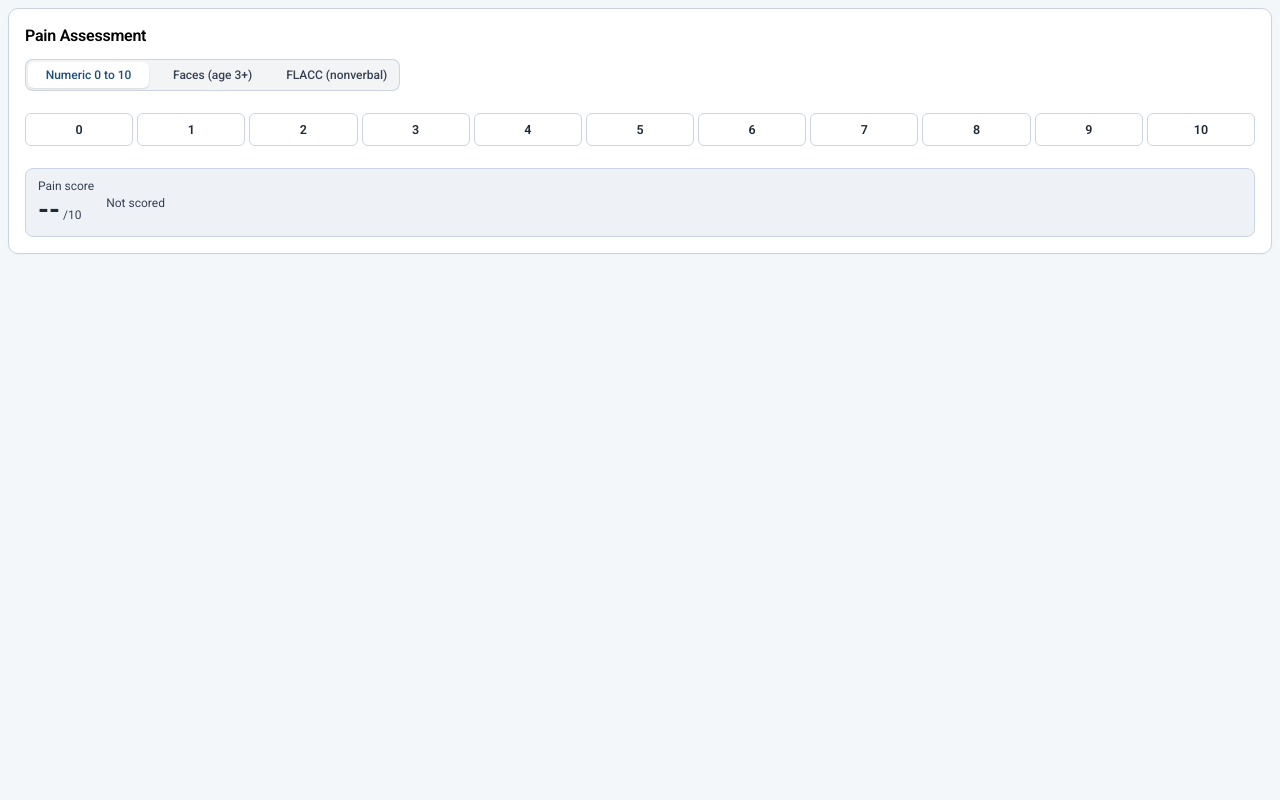
Test case: PainScale › switches scales and hides the switch with one mode
The width and height of the screenshot is (1280, 800).
Click the radio button labelled "FLACC (nonverbal)".
click(337, 75)  # box [276,62,397,88]
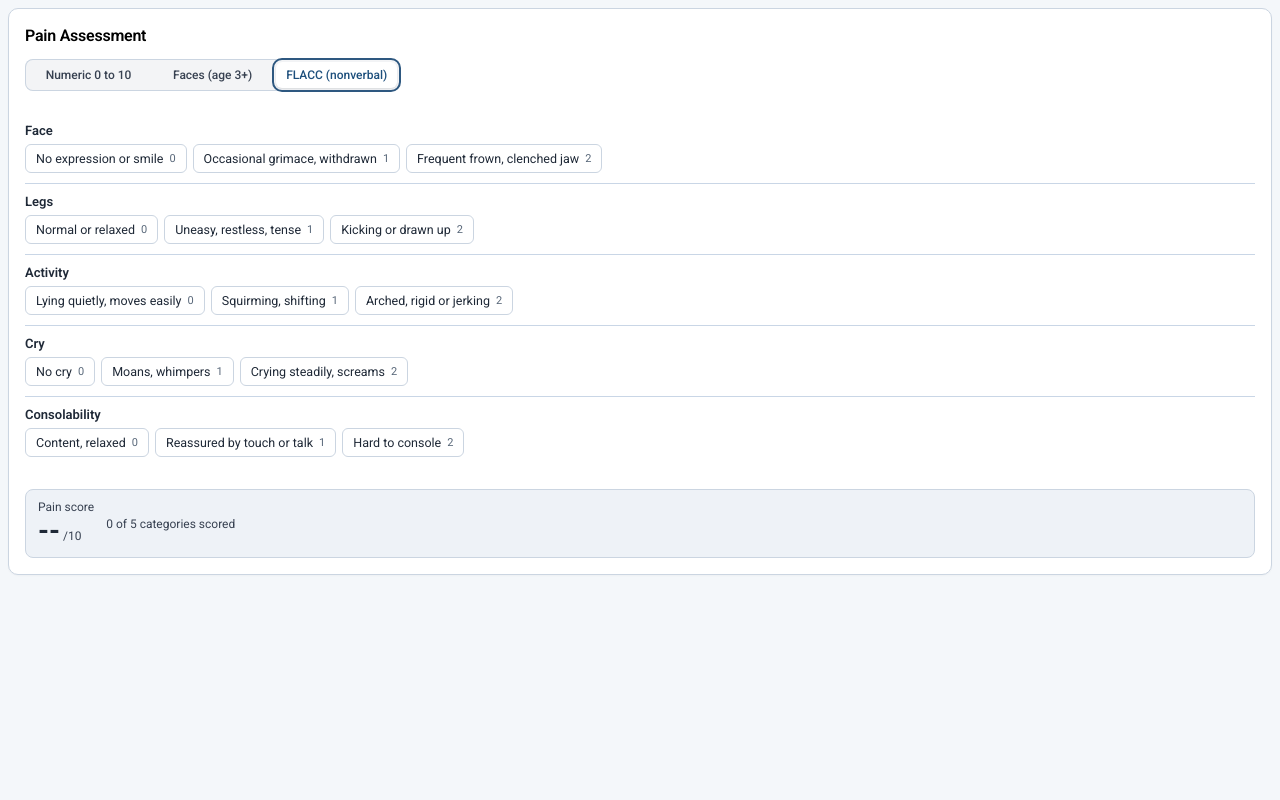
Expected: the element "Face" is shown, [25,113,1255,184]
